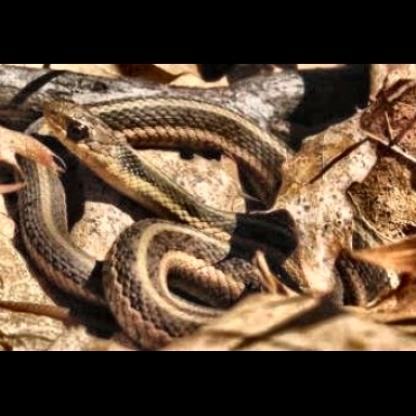Snake: (13, 92, 403, 341)
